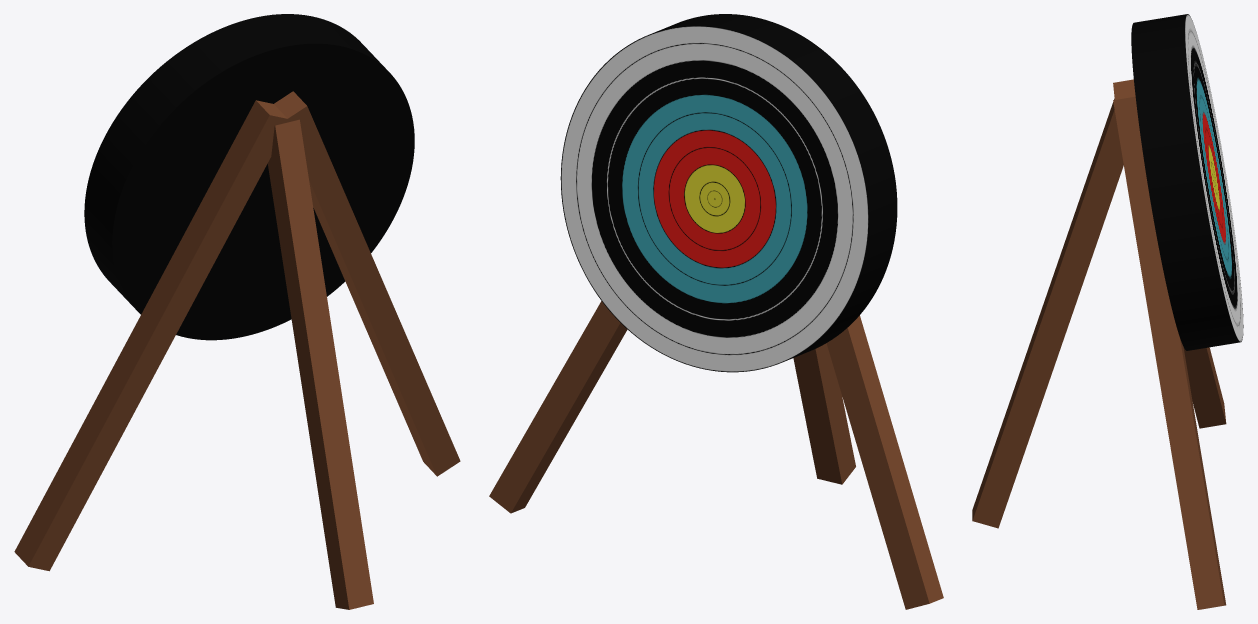
3 views of the same model, side by side, from view 1: azimuth 30°, elevation 25°; view 2: azimuth 150°, elevation 25°; view 3: azimuth 270°, elevation 25° (orthographic). The views are drawn at different scales.
Parts seen in each view (by area): view 1: Target_0; view 2: Target_0; view 3: Target_0.
Part boxes in pixels (x1,y1,x2,y2): Target_0: (14,14,460,609); Target_0: (489,14,943,609); Target_0: (972,14,1243,609).
Size of the model in its own units: 351 by 399 by 199.
Materials: 3 (1 with a texture image).
